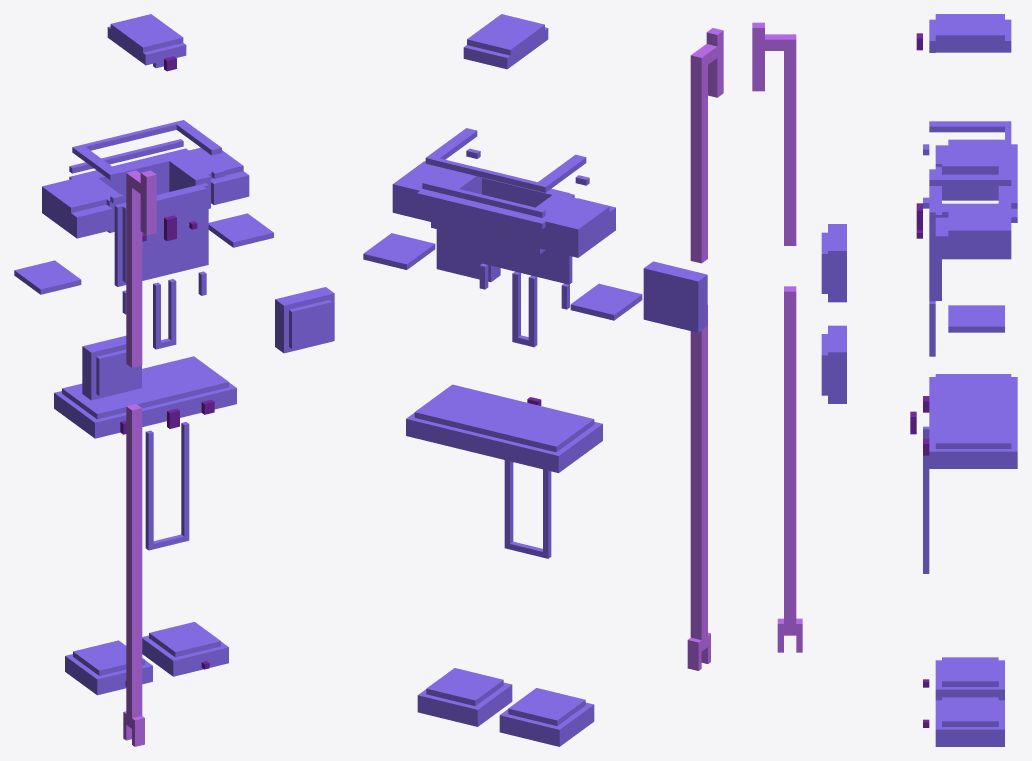
Rendered from Anubis-8.obj.
The picture shows the model from 3 angles, left to right: view 1: azimuth 30°, elevation 25°; view 2: azimuth 150°, elevation 25°; view 3: azimuth 270°, elevation 25°; orthographic projection. The views are drawn at different scales.
Size of the model in its own units: 4.8 by 12 by 4.2.
Materials: 1 (1 with a texture image).
